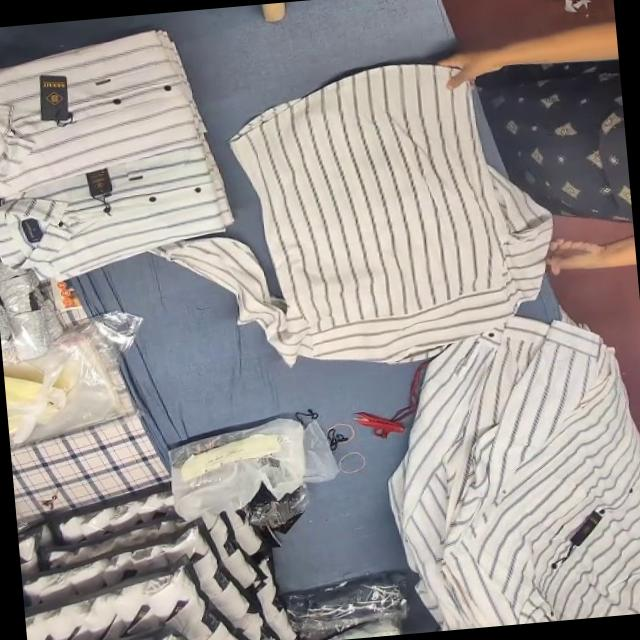new-garment: (160, 65, 551, 364)
